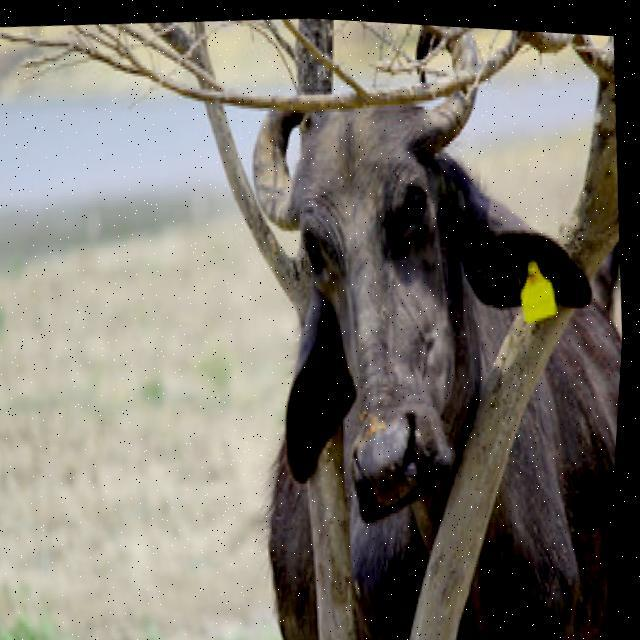Buffalo: (205, 14, 640, 640)
